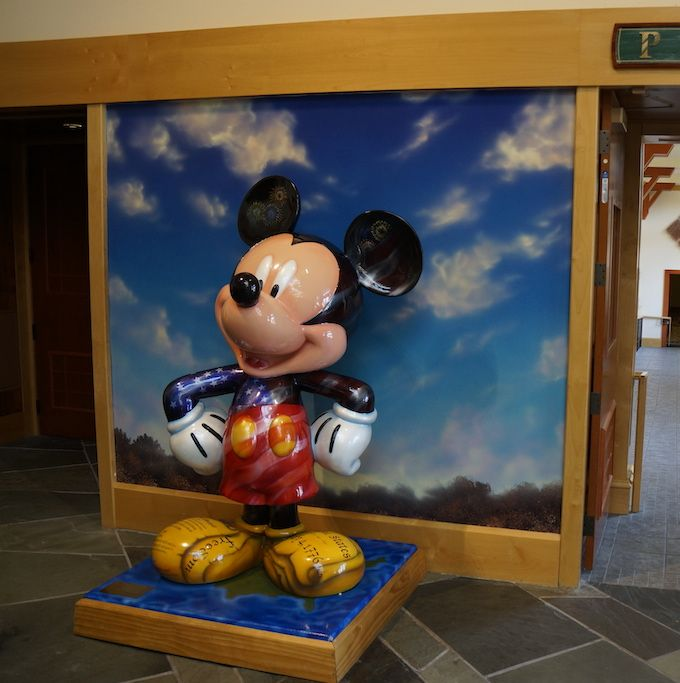Mickey: (201, 174, 426, 377)
